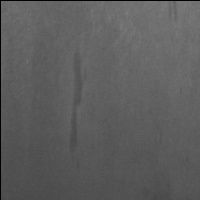inclusion: (64, 46, 90, 163), (162, 2, 183, 27)
